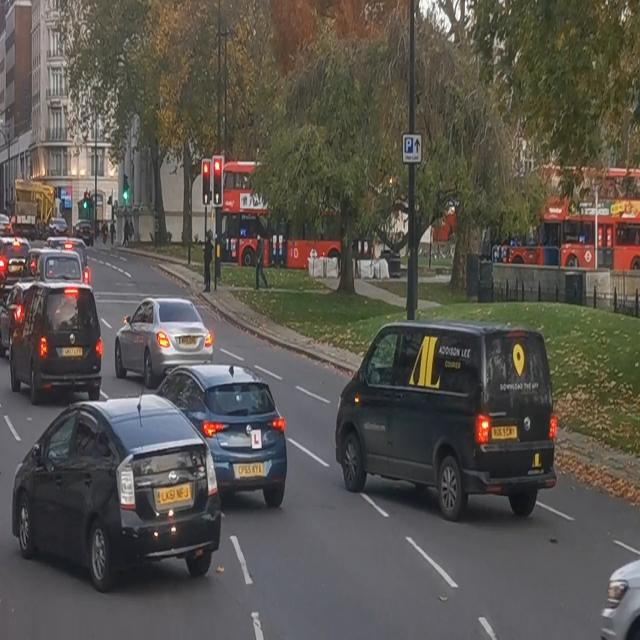Car: (337, 318, 557, 522), (15, 402, 218, 589), (162, 364, 292, 504), (15, 285, 108, 402), (117, 294, 216, 388)
